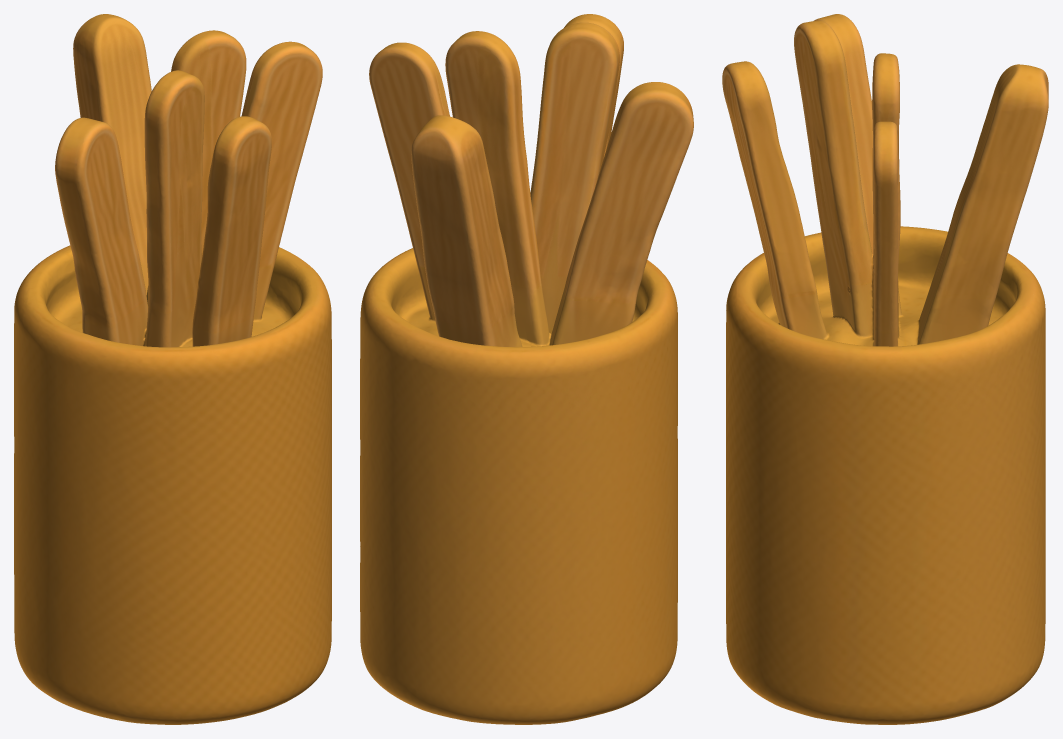
Rendered from sticks.glb.
3 views of the same model, side by side, from view 1: azimuth 30°, elevation 25°; view 2: azimuth 150°, elevation 25°; view 3: azimuth 270°, elevation 25° (orthographic).
Bounding box in the file's own units: 0.9359 × 1.9 × 0.9011.
1 material, 1 textured.
